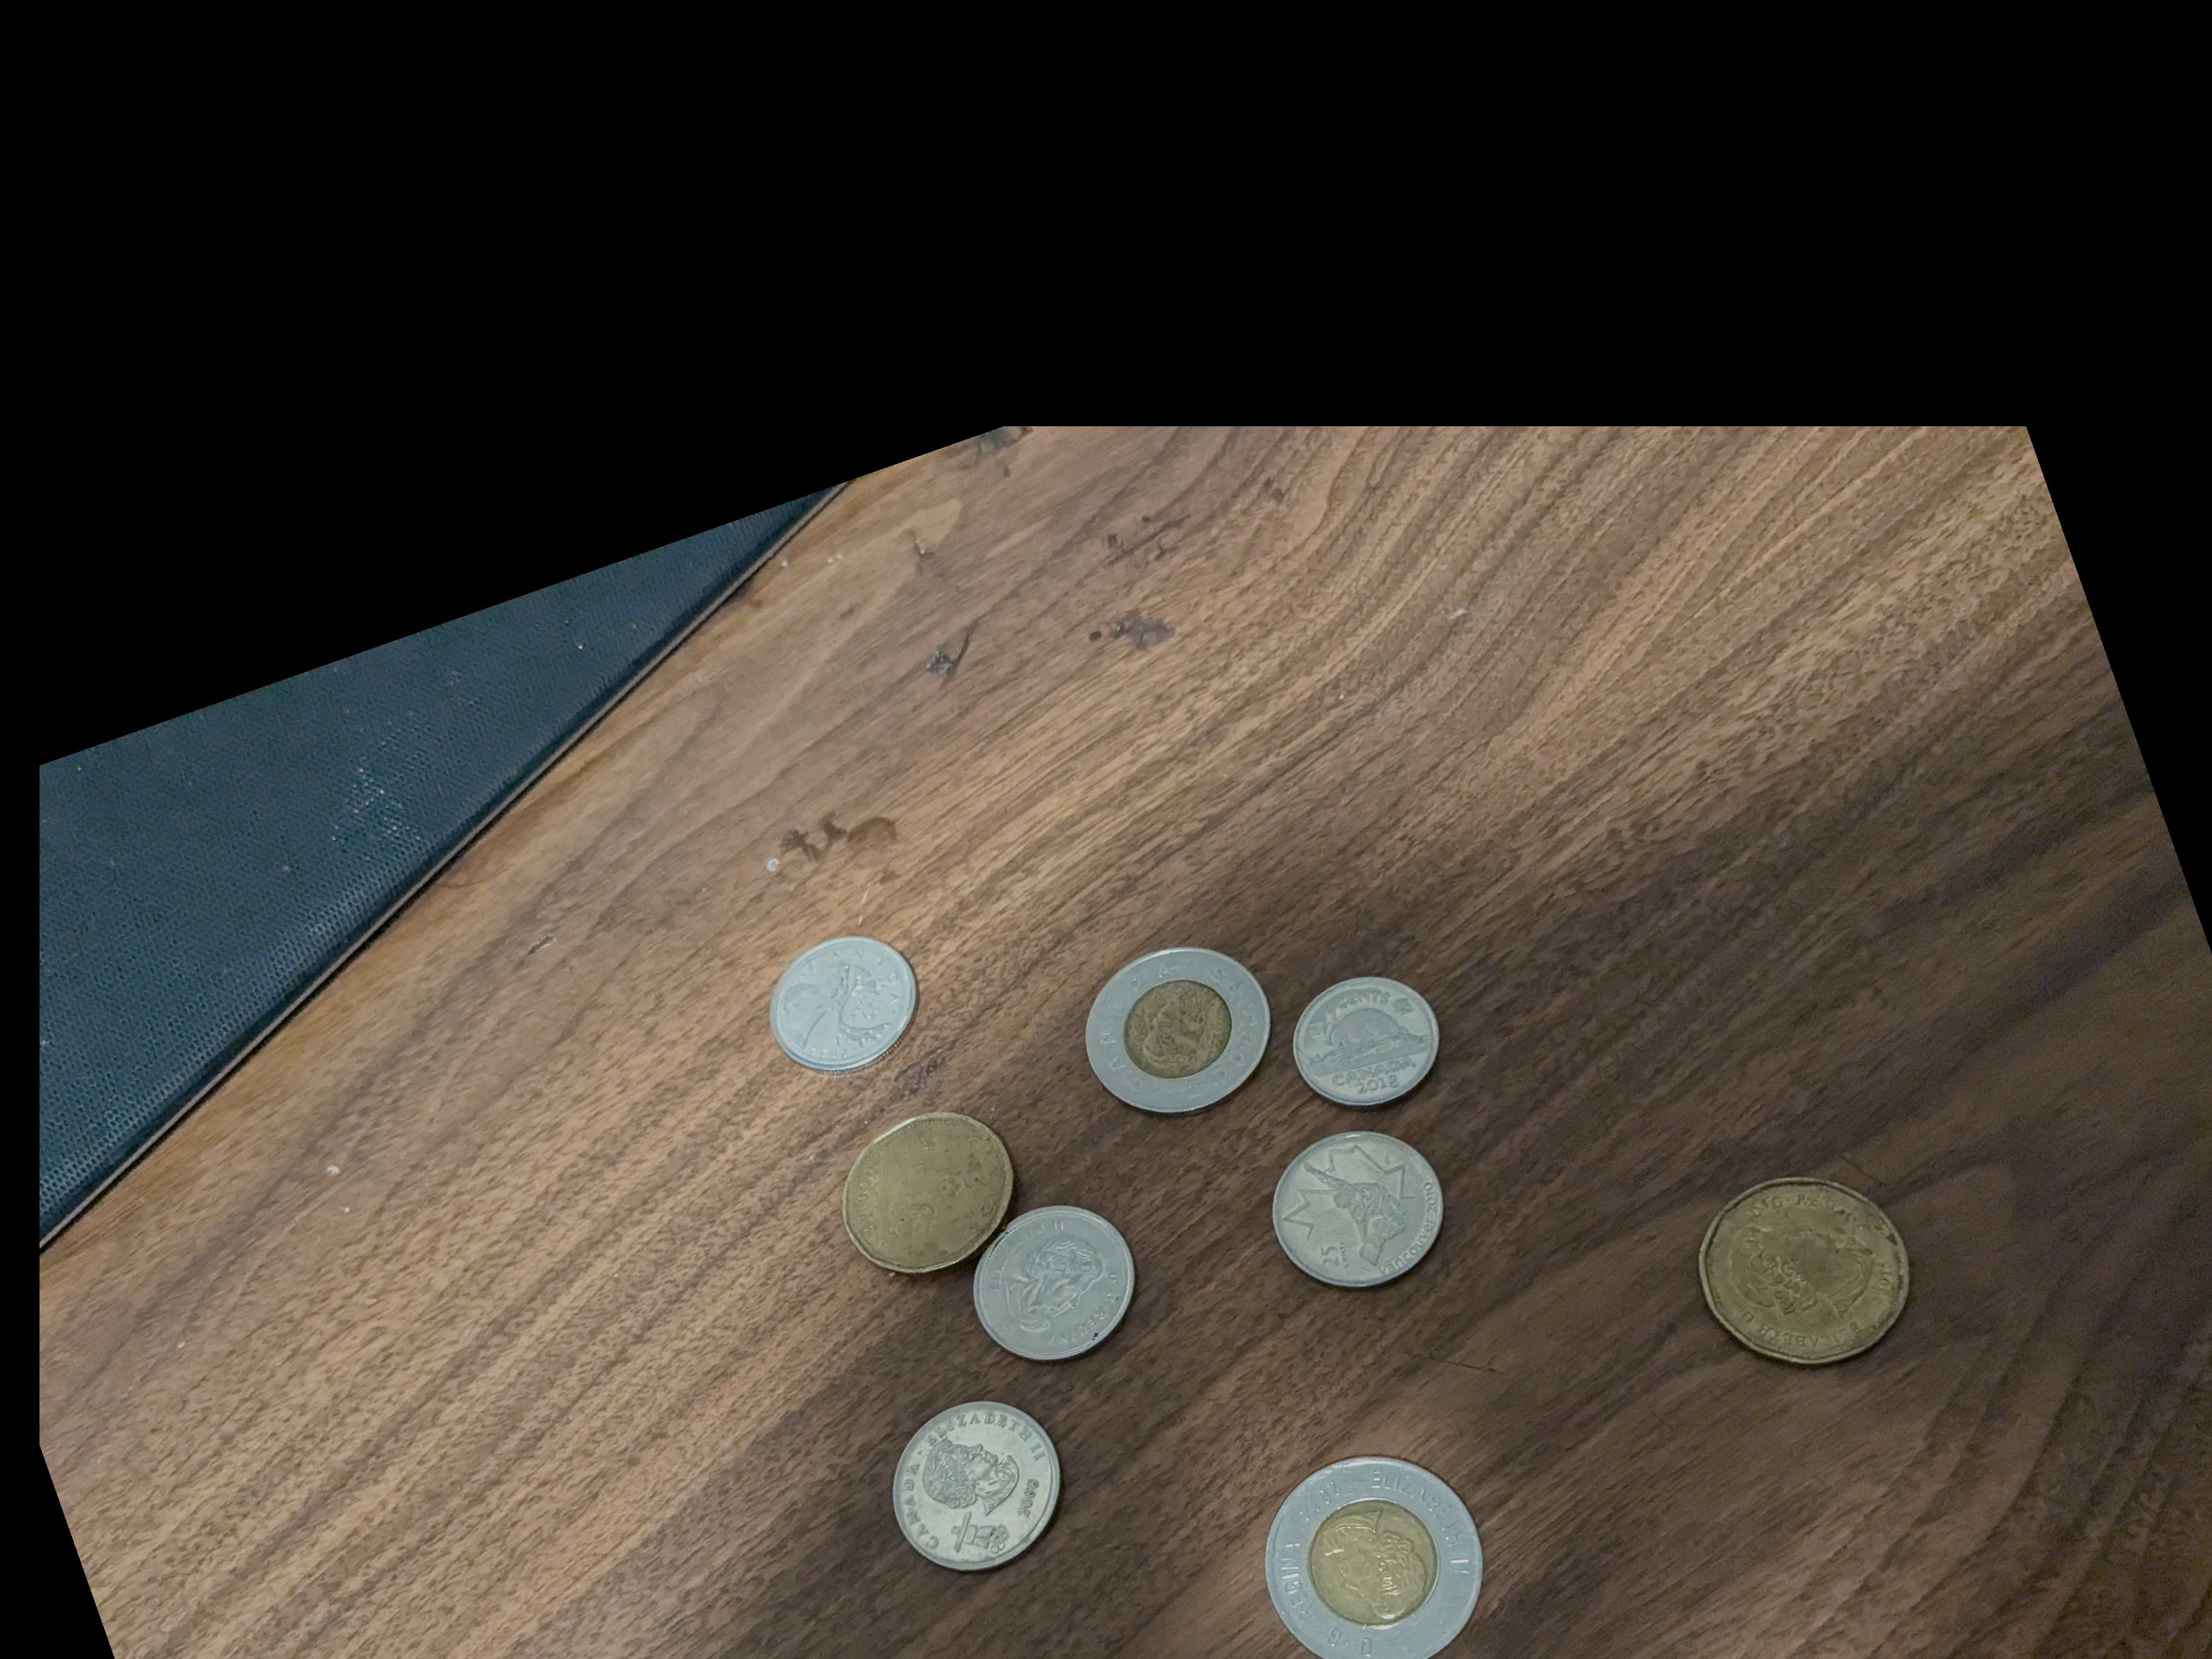loonie: (1695, 1171, 1916, 1370), (848, 1117, 1012, 1269)
nickel: (1292, 978, 1444, 1101)
quarter: (892, 1399, 1068, 1572), (1273, 1126, 1449, 1290), (970, 1202, 1136, 1361), (766, 936, 916, 1066)
toonie: (1264, 1457, 1491, 1659), (1085, 946, 1277, 1115)
